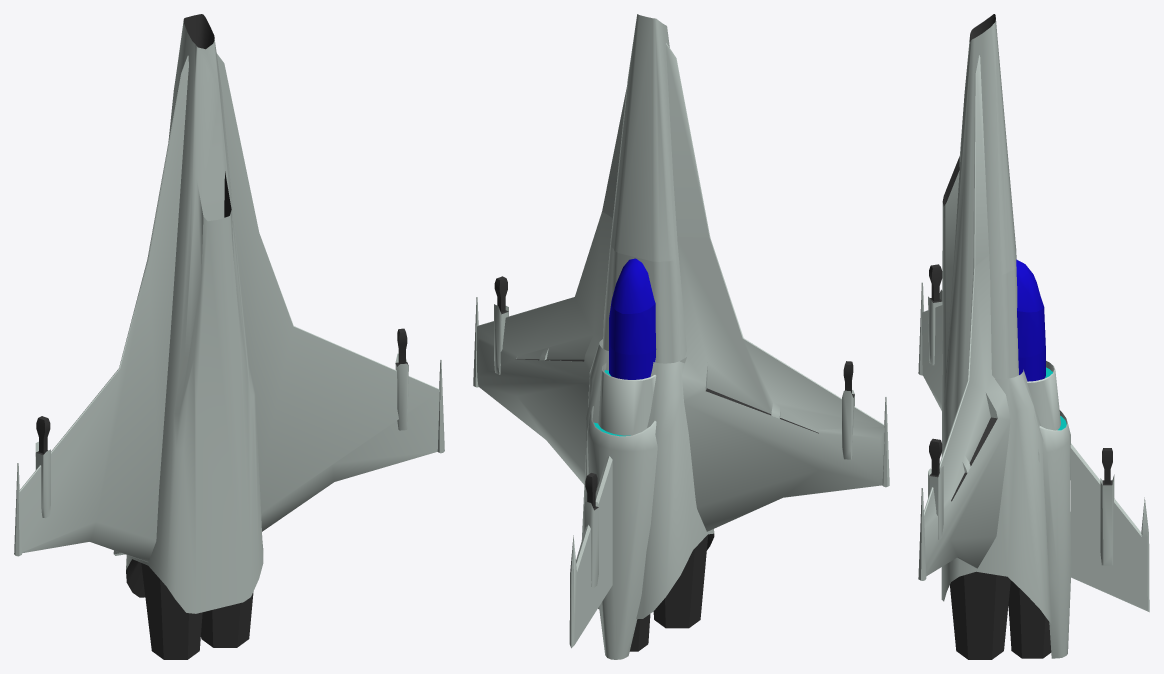
File: Dwarf.fbx
3 views of the same model, side by side, from view 1: azimuth 30°, elevation 25°; view 2: azimuth 150°, elevation 25°; view 3: azimuth 270°, elevation 25° (orthographic). The views are drawn at different scales.
Visible parts, largest first — view 1: Dwarf; view 2: Dwarf; view 3: Dwarf.
Boxes of the visible parts, x1,y1,x2,y2 form: Dwarf: (14,14,444,659); Dwarf: (473,14,889,659); Dwarf: (918,14,1149,659).
Bounding box in the file's own units: 820 × 1165 × 384.
